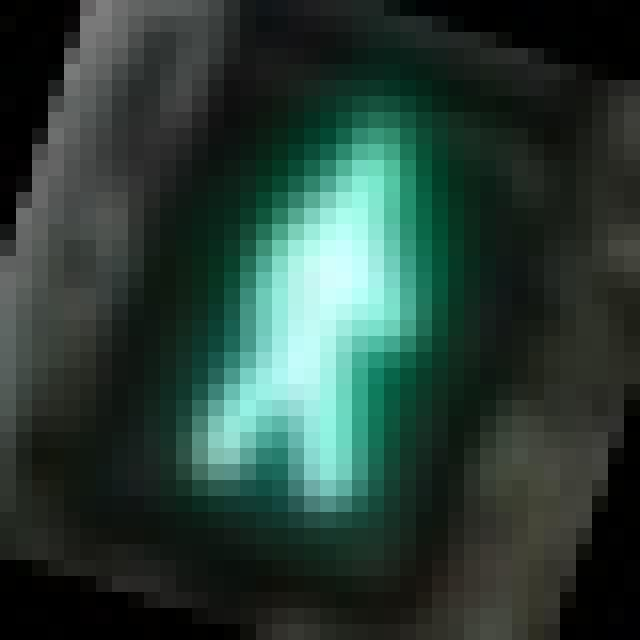green_light: (80, 32, 512, 544)
